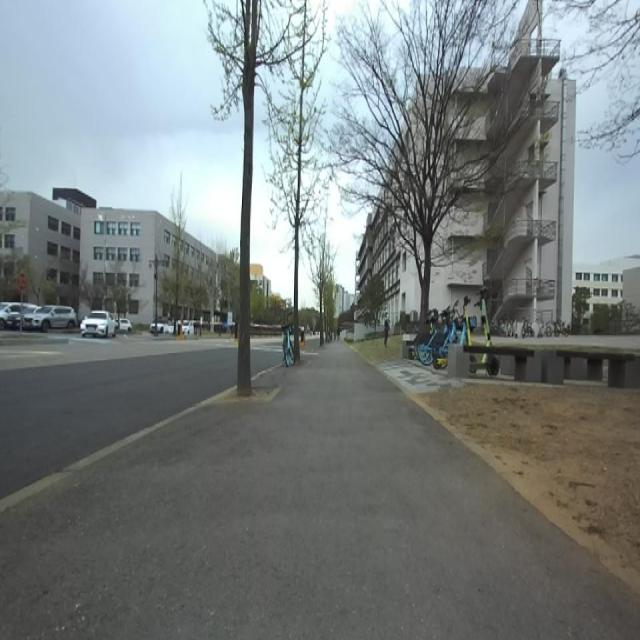sidewalk: (0, 341, 640, 639), (0, 386, 236, 512)
